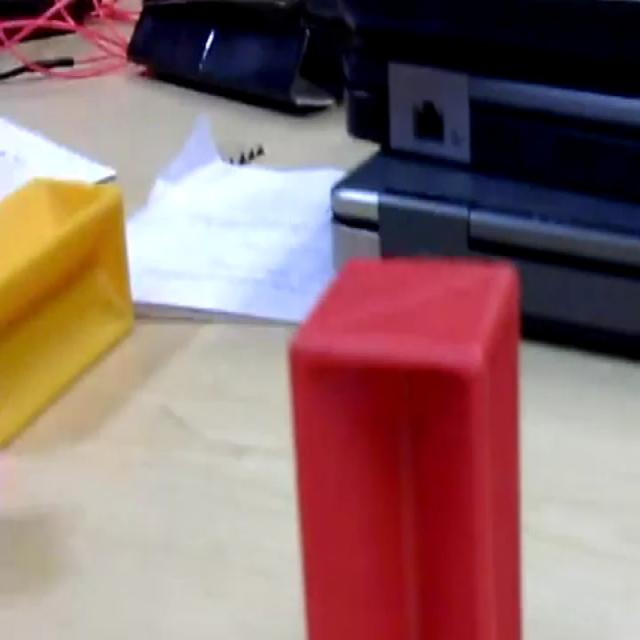red_block: (286, 253, 523, 636)
yellow_block: (0, 173, 134, 446)
